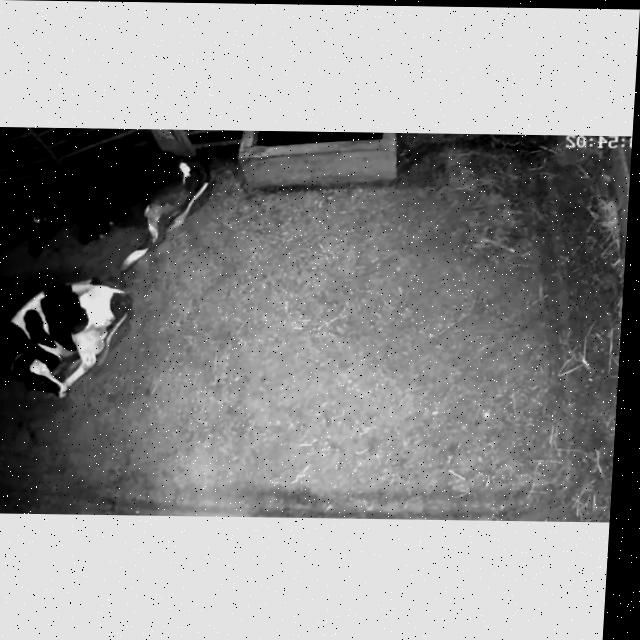lay: (14, 141, 219, 275), (0, 274, 150, 406)
